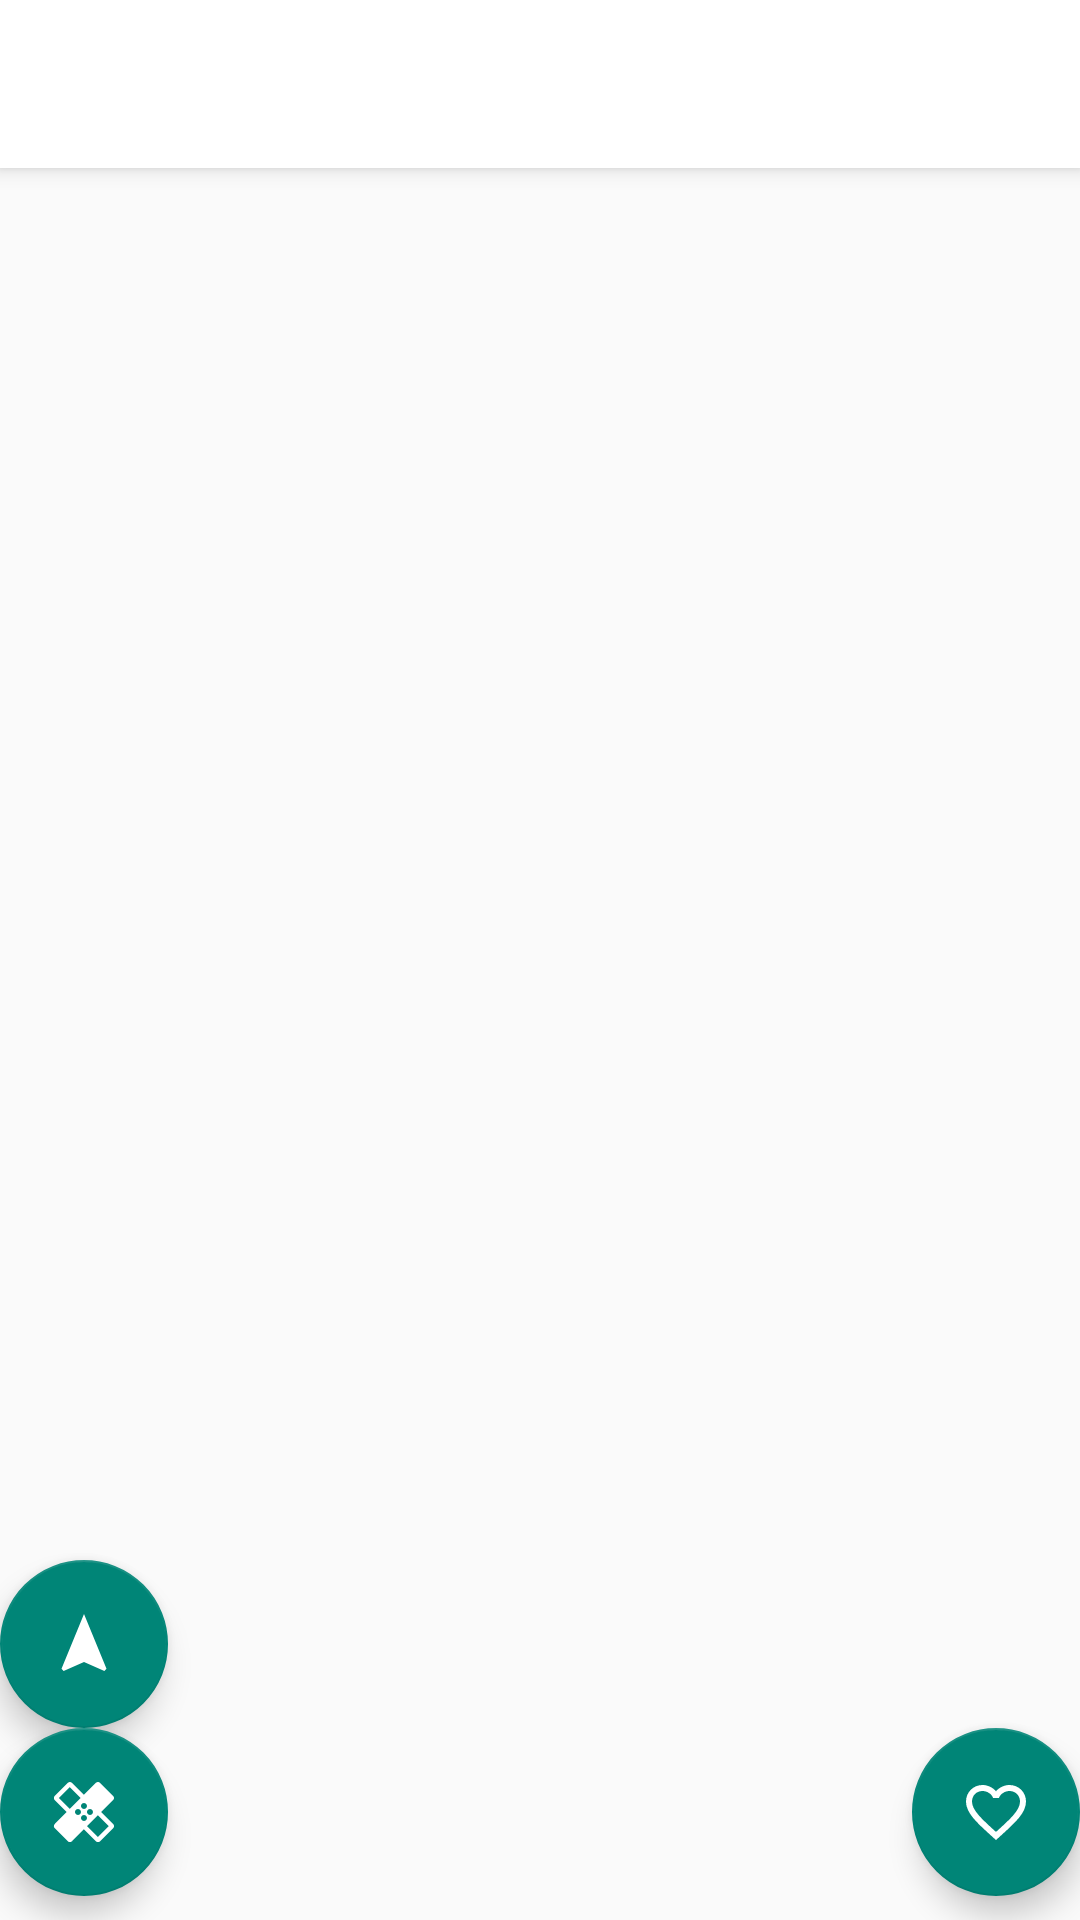

Locate icon controls on the screen. Image size 1080x1920, boxes as {"left": x1, "top": y1, "right": x2, "bottom": y2}.
favorite off: {"left": 912, "top": 1728, "right": 1080, "bottom": 1896}
navigation: {"left": 0, "top": 1560, "right": 168, "bottom": 1728}
navigation healing: {"left": 0, "top": 1728, "right": 168, "bottom": 1896}
